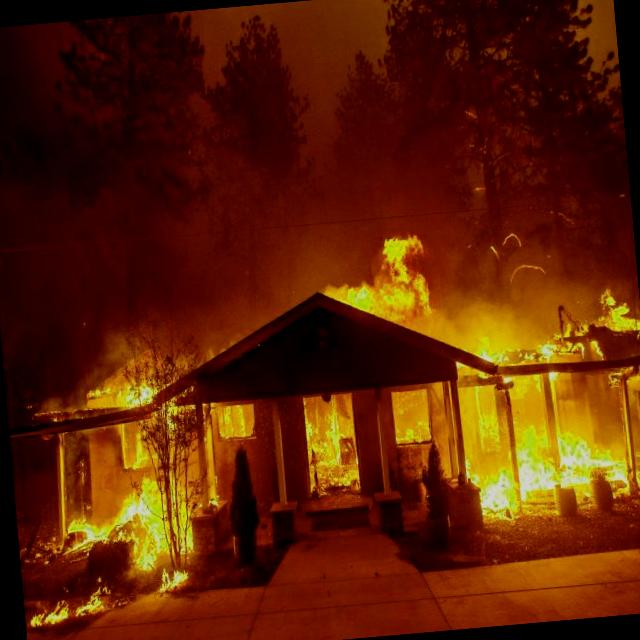fire: (0, 195, 640, 633)
